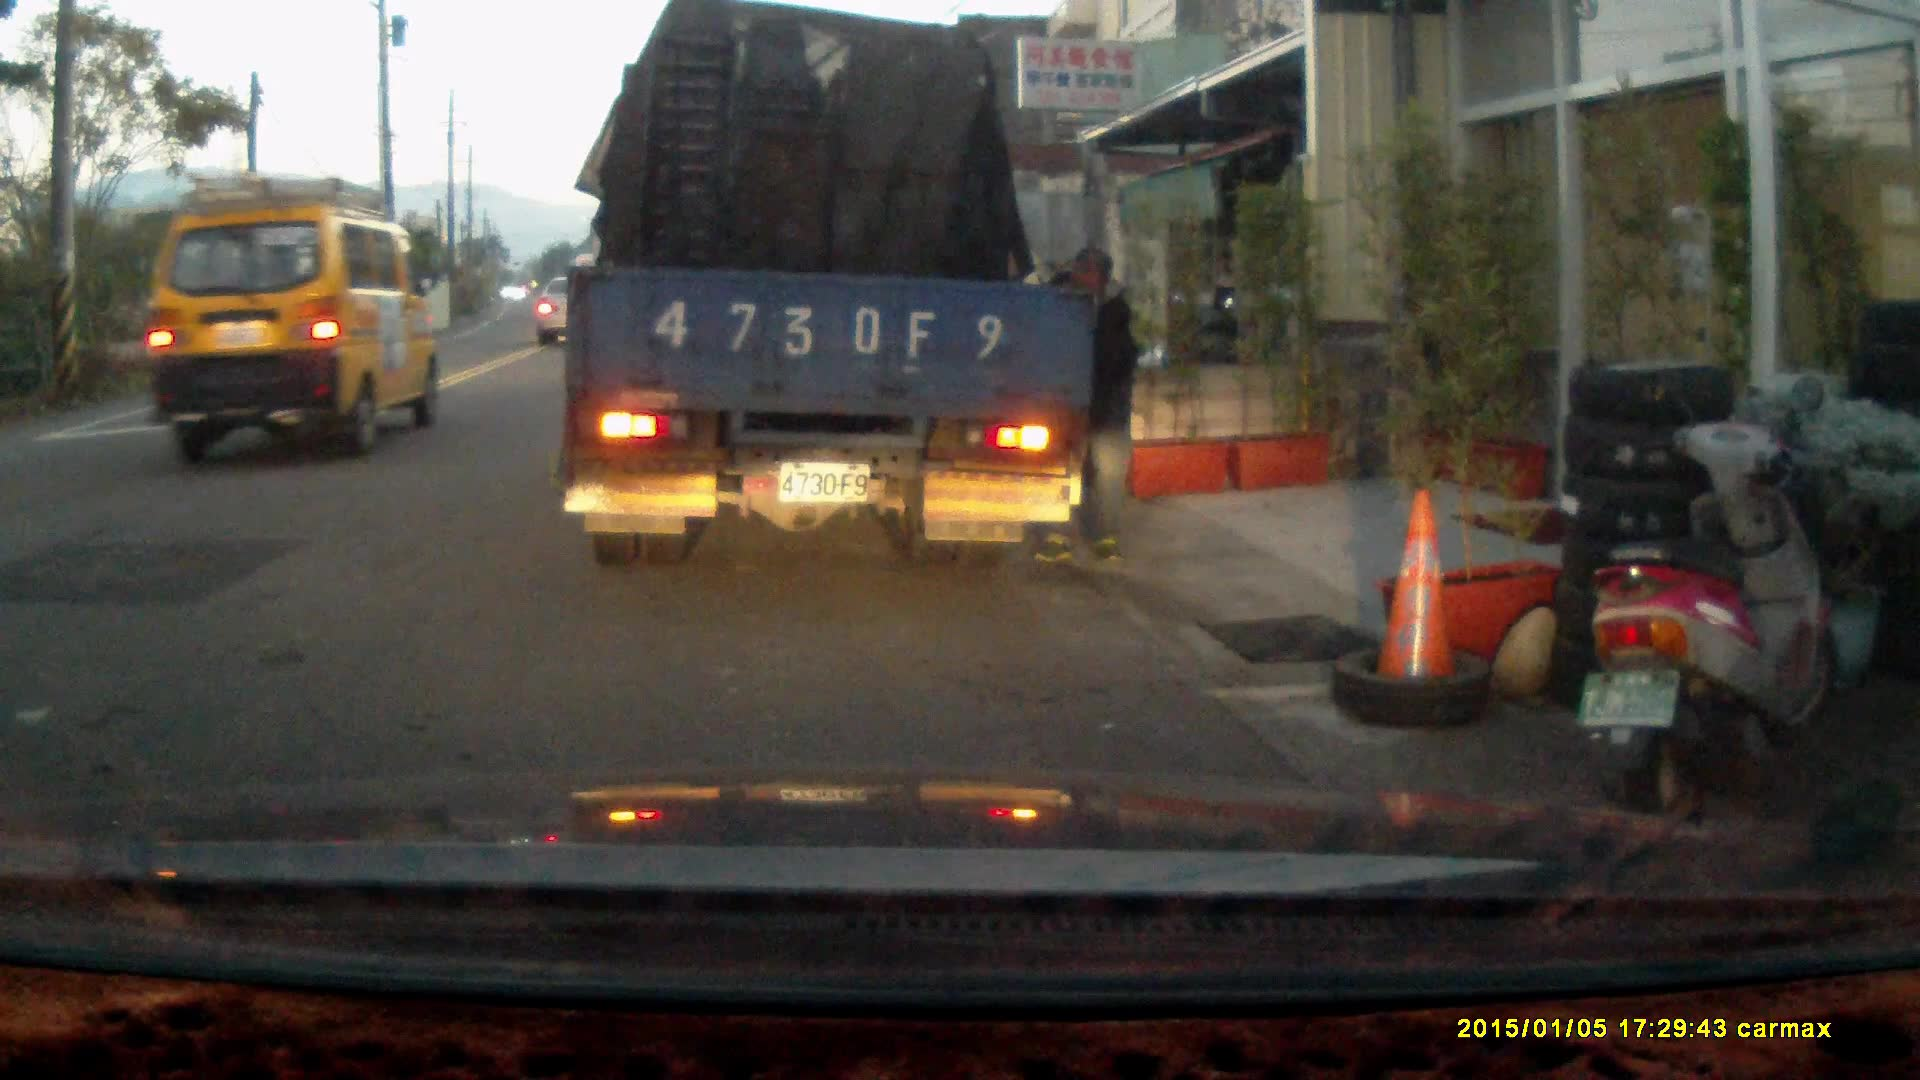pedestrian: (1027, 250, 1136, 564)
vehicle: (562, 24, 1084, 561), (140, 172, 440, 463), (536, 277, 597, 346)
